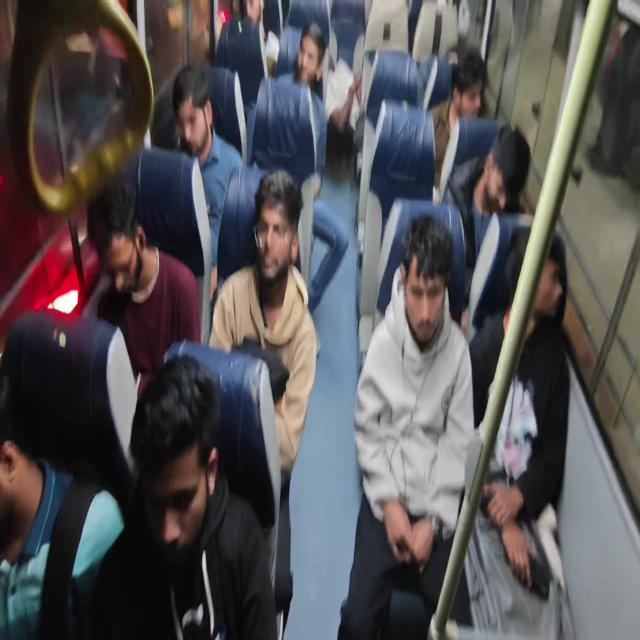person: (337, 213, 475, 638), (89, 353, 279, 639), (208, 168, 319, 634), (463, 227, 572, 637), (0, 309, 133, 638), (82, 179, 202, 400), (171, 64, 244, 296), (268, 20, 361, 196), (266, 22, 328, 286), (443, 123, 533, 263), (430, 48, 489, 203), (216, 0, 279, 109)
